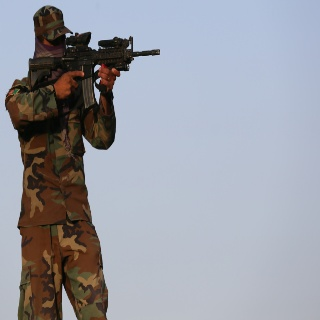rifle: (28, 32, 161, 111)
